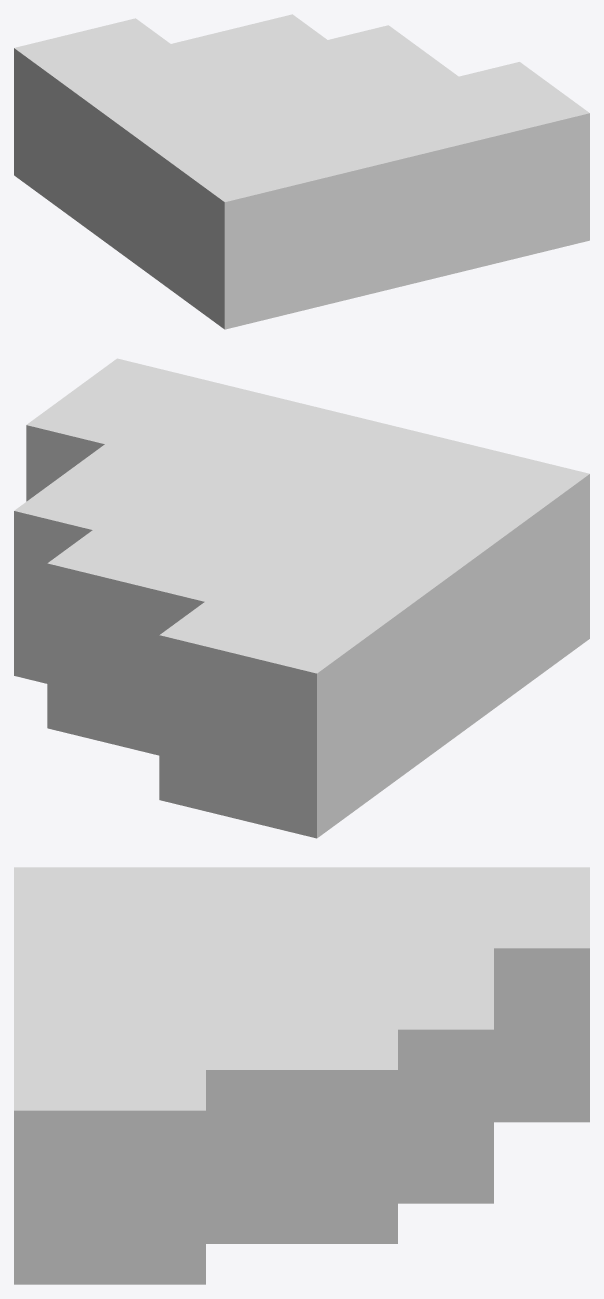
Rendered from ar_small_corner.fbx.
3 views of the same model, one above another, from view 1: azimuth 30°, elevation 25°; view 2: azimuth 150°, elevation 25°; view 3: azimuth 270°, elevation 25° (orthographic). The views are drawn at different scales.
Visible parts, largest first — view 1: Matrix_6_part; view 2: Matrix_6_part; view 3: Matrix_6_part.
Part boxes in pixels (box(x1,y1,x2,y2)): Matrix_6_part: box(14, 14, 589, 329); Matrix_6_part: box(14, 358, 589, 838); Matrix_6_part: box(14, 867, 589, 1284).
Bounding box in the file's own units: 6 × 2 × 6.
Materials: 1 (1 with a texture image).
